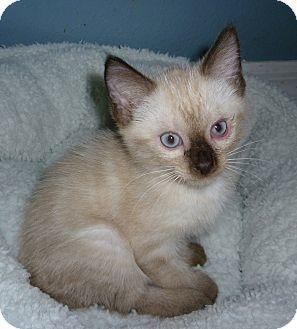siamese: (98, 19, 256, 193)
